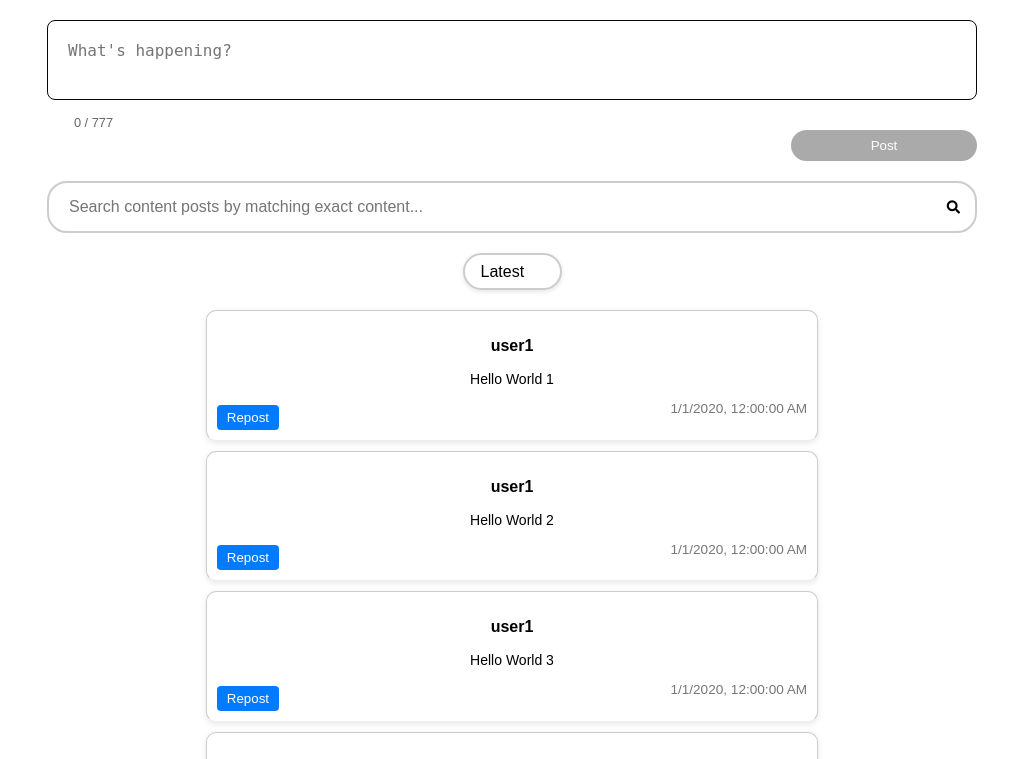
Posts Component › creates 5 posts and tries to create the sixth and returns an error
Type "New post content" into the text box with placeholder "What's happening?".
click(512, 60); type("New post content")  # box [47, 20, 977, 100]
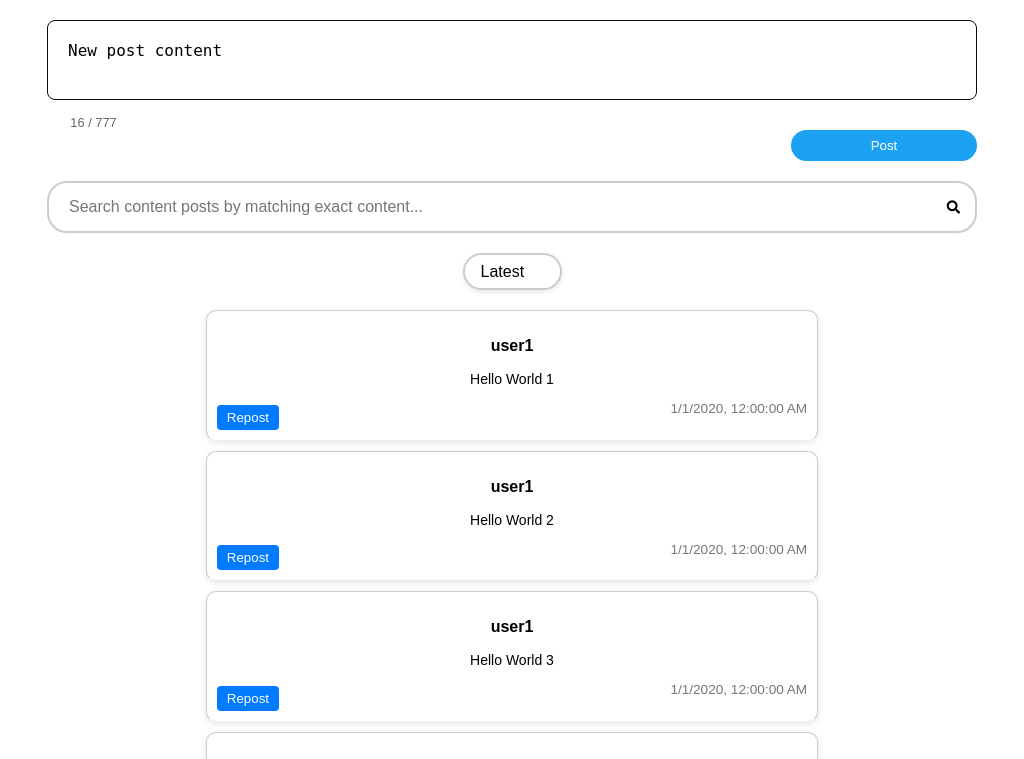
Click the button "Post".
click(884, 146)  # box [791, 130, 977, 161]
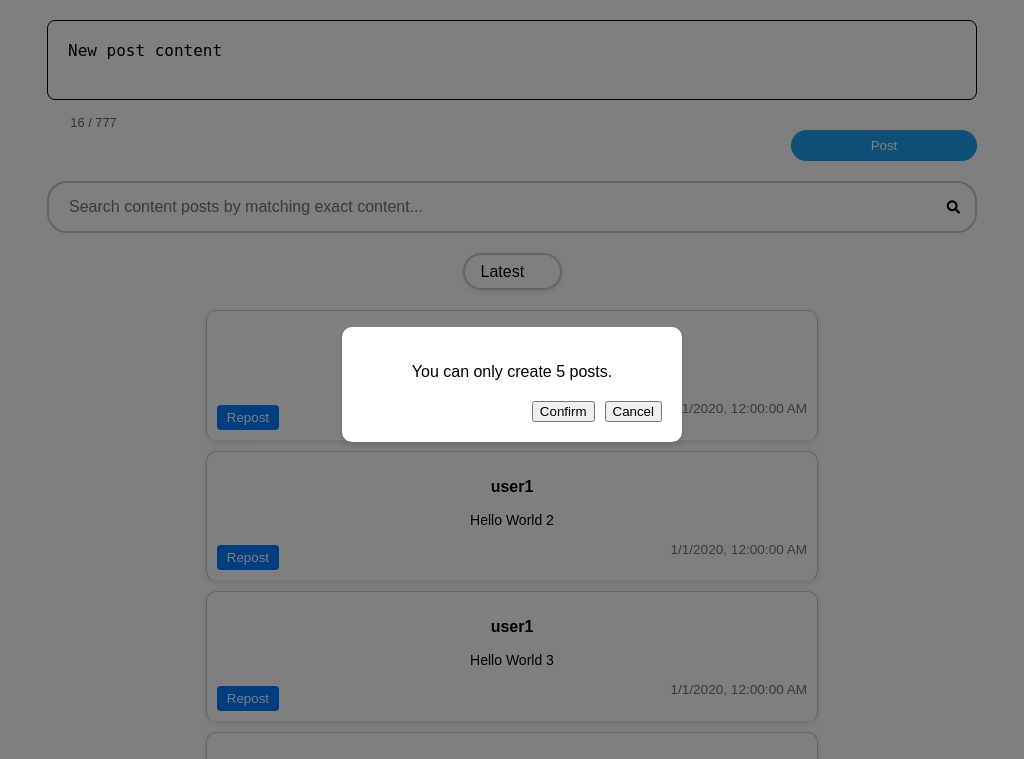
expect the text "You can only create 5 posts." is shown: met, box [412, 362, 612, 380]
